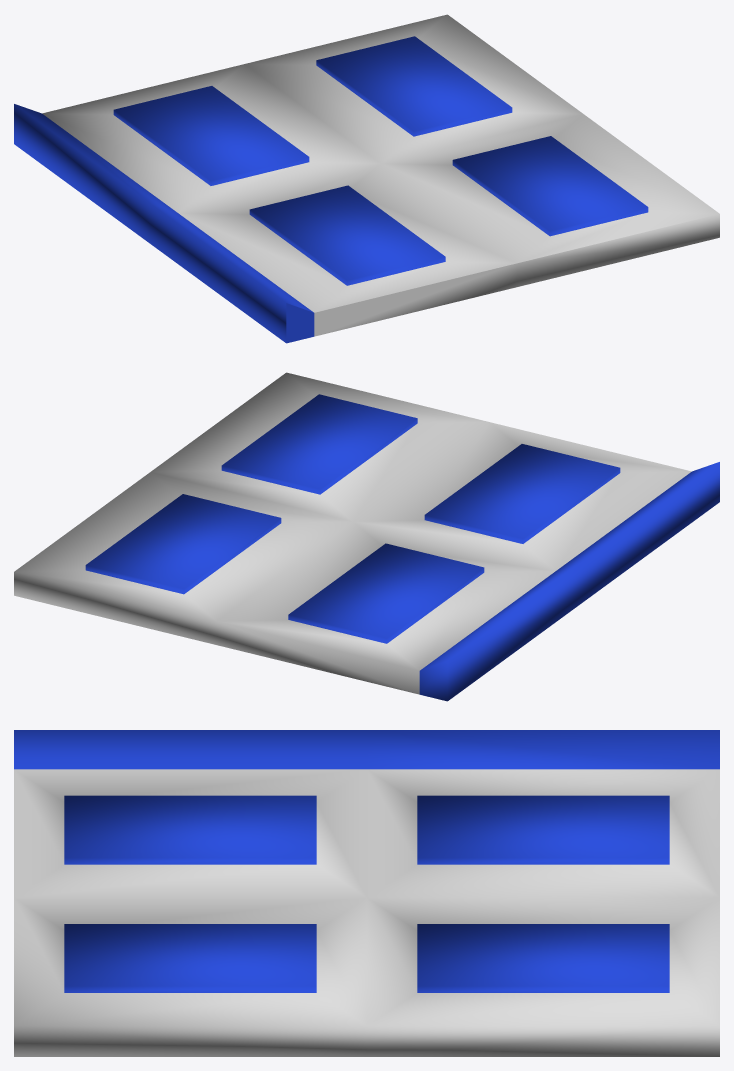
The model's file is teclado.fbx.
3 views of the same model, one above another, from view 1: azimuth 30°, elevation 25°; view 2: azimuth 150°, elevation 25°; view 3: azimuth 270°, elevation 25° (orthographic). The views are drawn at different scales.
Parts seen in each view (by area): view 1: Plane.002; view 2: Plane.002; view 3: Plane.002.
Part boxes in pixels (x1,y1,x2,y2): Plane.002: [14, 14, 719, 343]; Plane.002: [14, 372, 719, 701]; Plane.002: [14, 730, 719, 1056].
Bounding box in the file's own units: 173 × 15.42 × 188.
